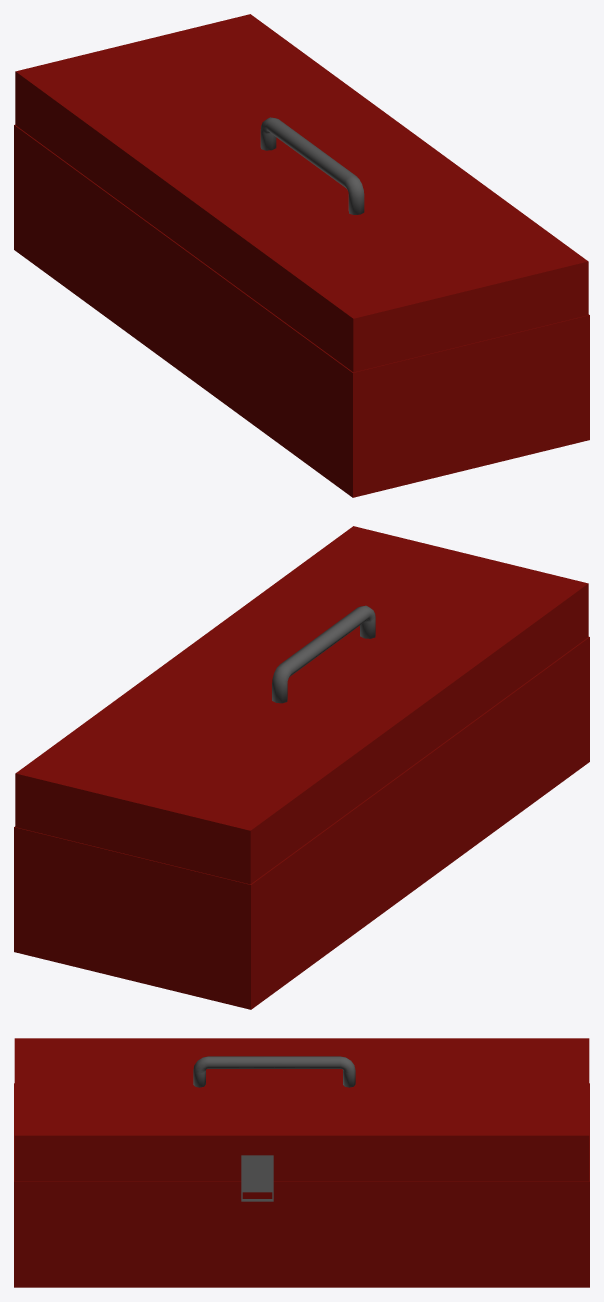
The model's file is Tool Box.fbx.
The picture shows the model from 3 angles, top to bottom: view 1: azimuth 30°, elevation 25°; view 2: azimuth 150°, elevation 25°; view 3: azimuth 270°, elevation 25°; orthographic projection. The views are drawn at different scales.
Visible parts, largest first — view 1: Cover, Bottom; view 2: Cover, Bottom; view 3: Cover, Bottom.
Part boxes in pixels (<box>): Cover: <box>15,14,588,372</box>; Bottom: <box>14,125,589,497</box>; Cover: <box>15,526,588,884</box>; Bottom: <box>14,637,589,1009</box>; Cover: <box>14,1038,589,1201</box>; Bottom: <box>14,1083,589,1287</box>.
Bounding box in the file's own units: 0.4765 × 0.3781 × 1.1.
